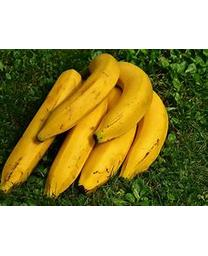banana: (2, 56, 169, 190)
